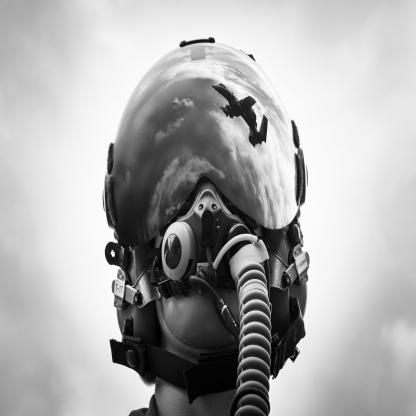A10: (213, 84, 269, 149)
